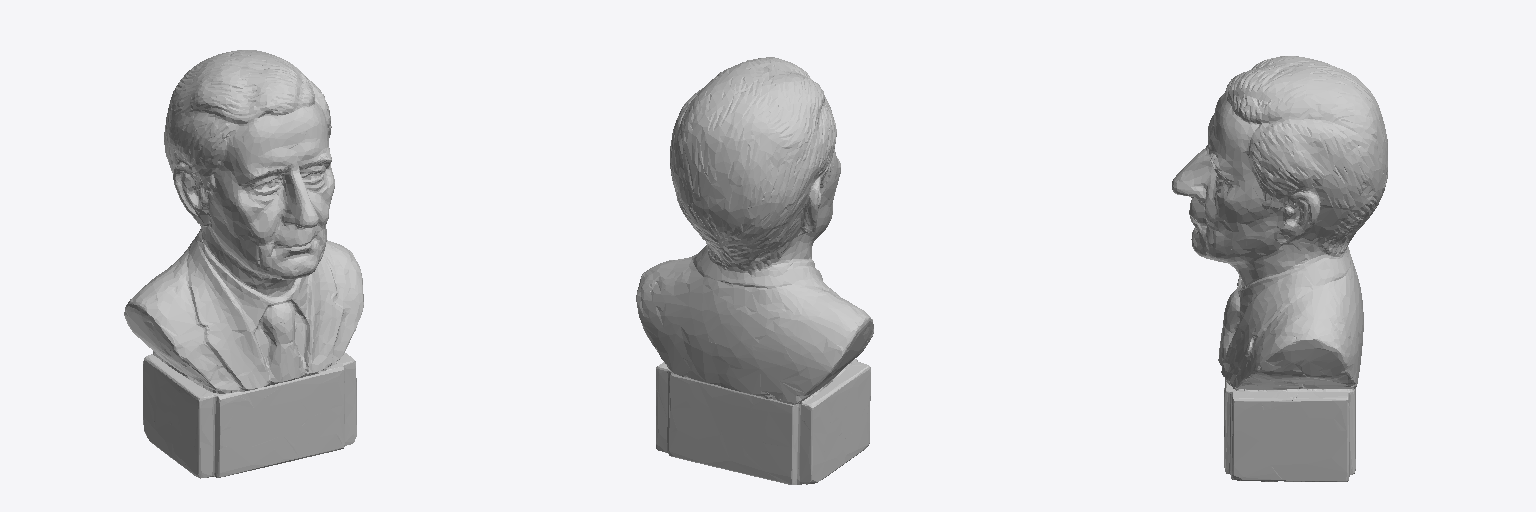
The model's file is statue.obj.
The picture shows the model from 3 angles: view 1: azimuth 30°, elevation 25°; view 2: azimuth 150°, elevation 25°; view 3: azimuth 270°, elevation 25°; orthographic projection.
Parts seen in each view (by area): view 1: Object.1; view 2: Object.1; view 3: Object.1.
Part boxes in pixels (left/top/right/bottom): Object.1: left=124, top=50, right=363, bottom=478; Object.1: left=636, top=57, right=873, bottom=484; Object.1: left=1172, top=56, right=1387, bottom=481.
Size of the model in its own units: 6.91 by 11.54 by 6.03.